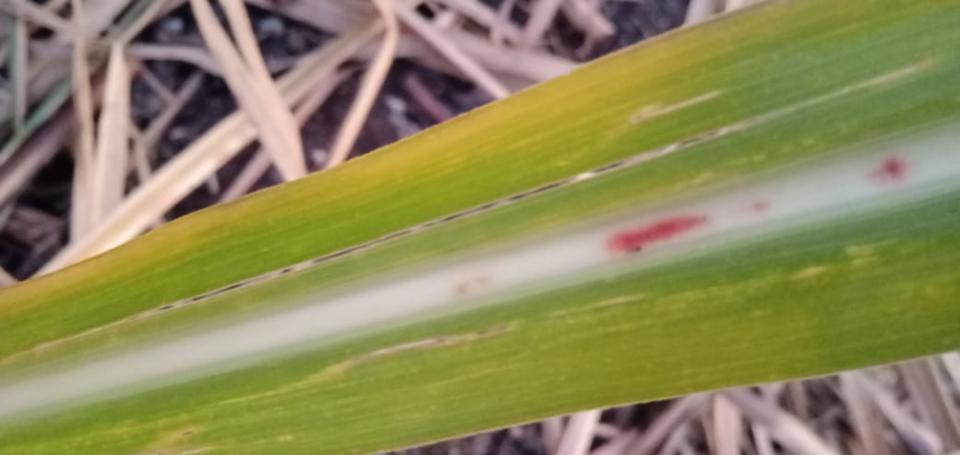RedRot: (598, 210, 711, 259), (863, 154, 909, 186), (748, 195, 774, 221)
Yellow: (0, 0, 819, 312)
